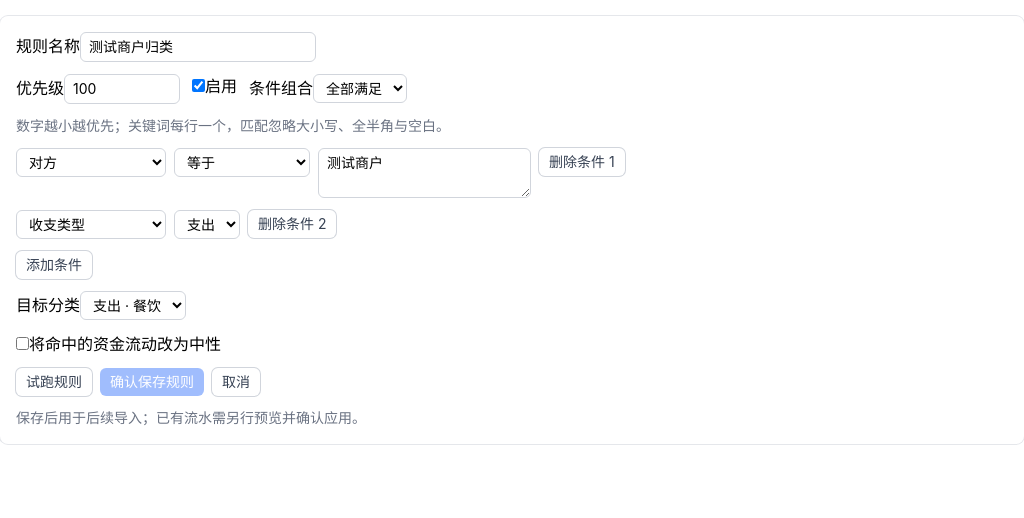
规则编辑器 › 重新试跑失败不能使用旧预览保存
Click the button "试跑规则" at (54,382), box 16,368 -> 92,396
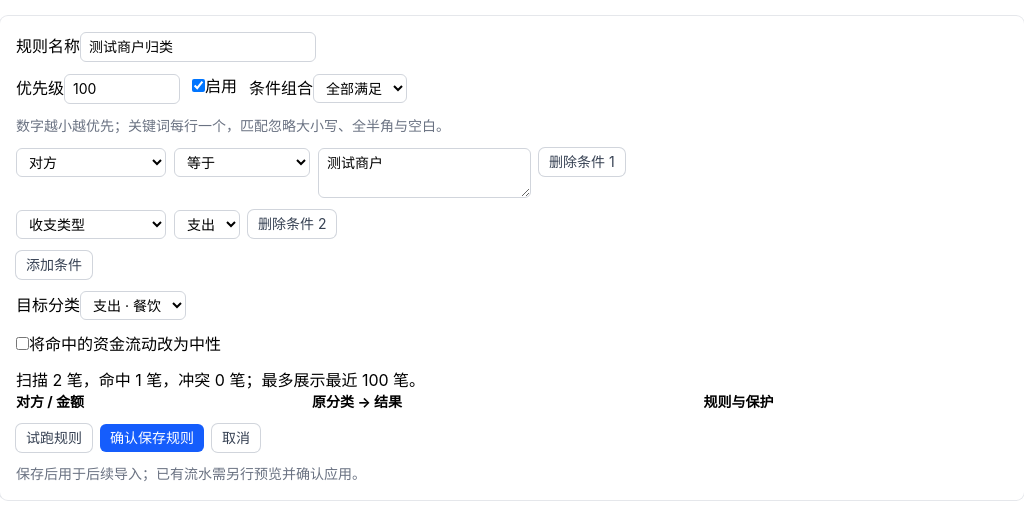
Now the button "确认保存规则" is enabled, box 100,424 -> 204,452
Click the button "试跑规则" at (54,438), box 16,424 -> 92,452
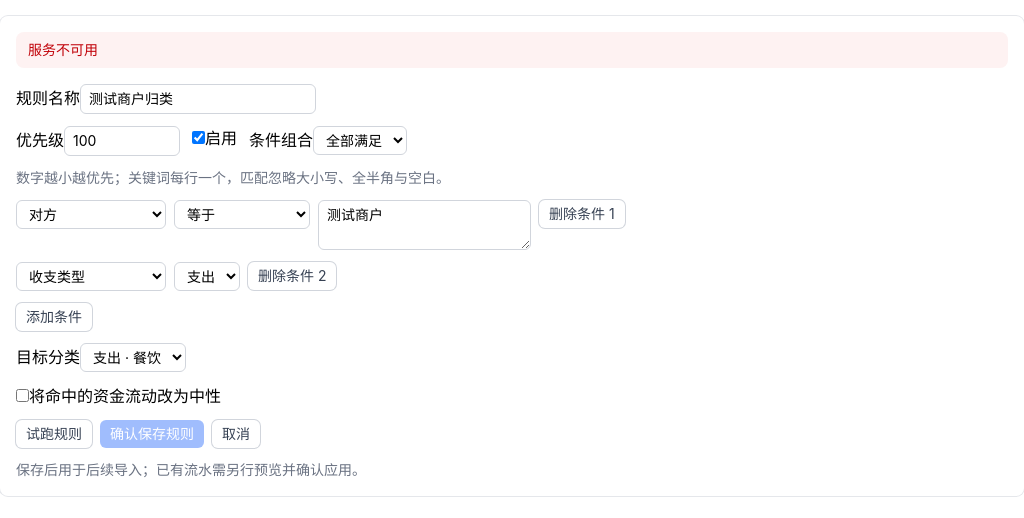
Now the message "服务不可用" is shown, box 16,32 -> 1008,68
Now the button "确认保存规则" is disabled, box 100,420 -> 204,448
